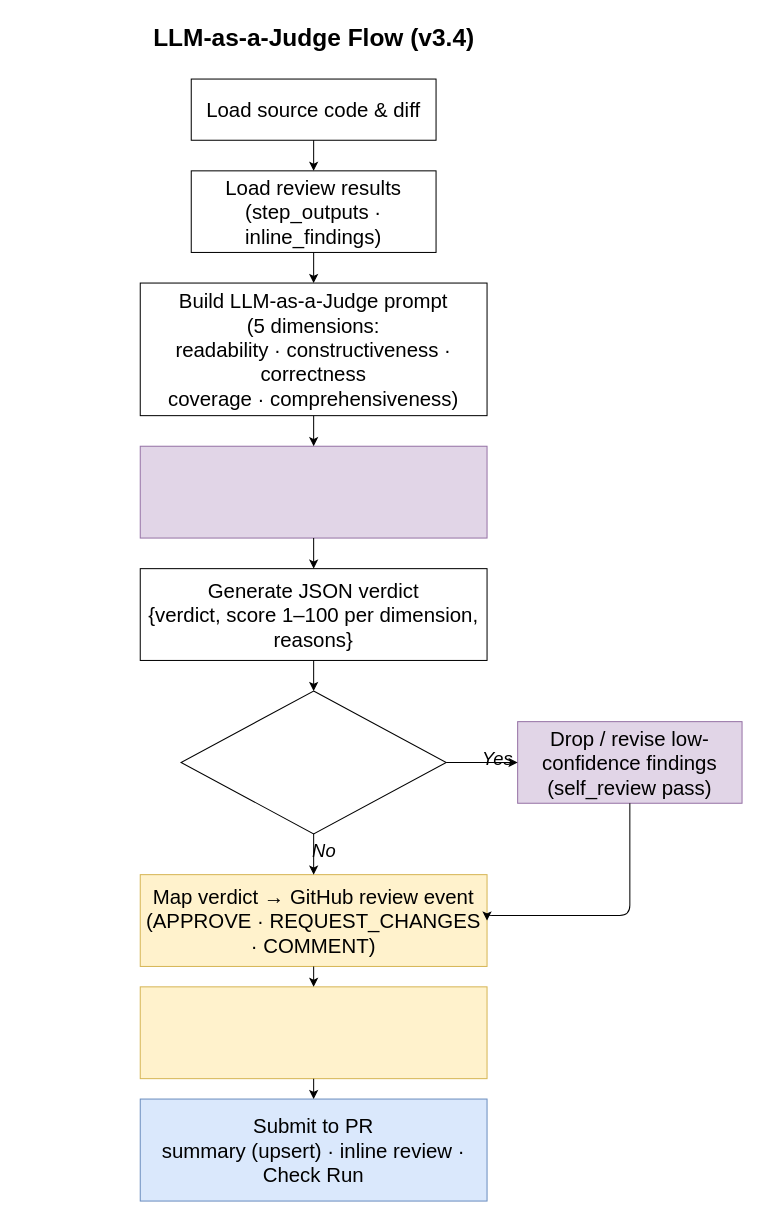
Some shapes in this 760 by 1219 pixel diagram are drawn without their labels. Each missing label, with the centre of its shape:
"Compute pre-merge gate (severity floor · check-run conclusion)" goes at point (313, 1032).
"Input judge prompt to external LLM (OpenAI-compat / Anthropic / local)" goes at point (313, 491).
"Self-correct triggered?" goes at point (313, 762).
